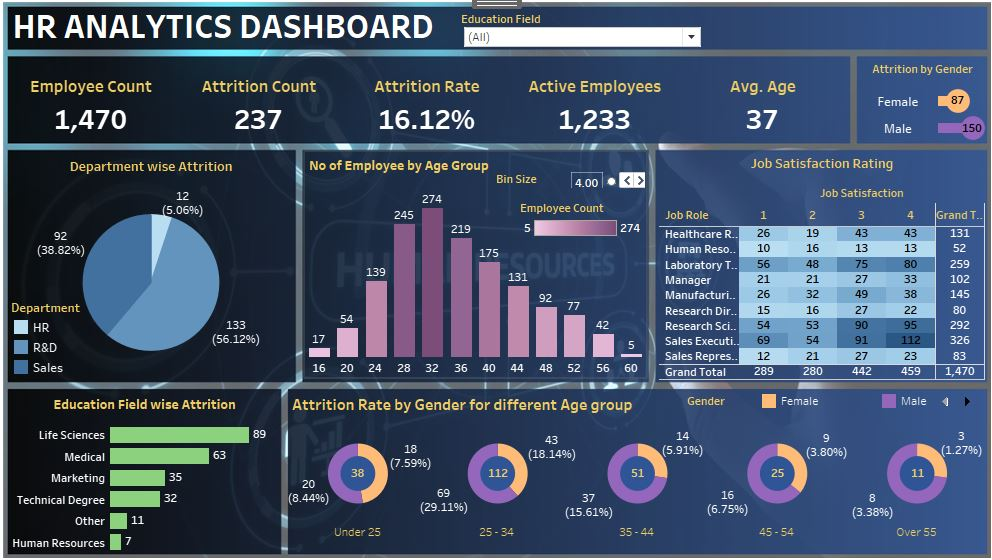

What the dashboard file says about the page in this screenshot:
{"tool":"tableau","page":{"name":"HR Analytics Dashboard","canvas":[1150,580],"ordinal":0},"visuals":[{"type":"image","param":"C:/Users/MYPC/Desktop/Prerna/Project/Tableau/HR background.png","box":[8,8,1134,564]},{"type":"text","box":[88,15,535,41]},{"type":"filter","title":"Education Field wise Attrition","param":"[federated.11tc1780mvrojr122pgkx023uk9m].[none:Education Field:nk]","box":[539,21,243,36]},{"type":"worksheet","title":"KPI","mark":"Automatic","box":[85,67,840,83]},{"type":"worksheet","title":"Attrition by Gender","mark":"Automatic","rows":["Gender"],"cols":["Calculation_702280068245577728","Calculation_702280068245577728"],"box":[936,67,129,85]},{"type":"worksheet","title":"Job Satisfaction Rating","mark":"Square","rows":["Job Role"],"cols":["Job Satisfaction"],"box":[737,160,326,230]},{"type":"worksheet","title":"No of Employee by Age Group","mark":"Automatic","rows":["Employee Count"],"cols":["Age (bin)"],"box":[383,162,341,225]},{"type":"worksheet","title":"Department wise Attrition","mark":"Pie","box":[86,163,286,226]},{"type":"parameter","param":"[Parameters].[Parameter 1]","box":[574,179,152,19]},{"type":"legend","title":"No of Employee by Age Group","param":"[federated.11tc1780mvrojr122pgkx023uk9m].[sum:Employee Count:qk]","box":[598,210,125,40]},{"type":"legend","title":"Department wise Attrition","param":"[federated.11tc1780mvrojr122pgkx023uk9m].[none:Department:nk]","box":[89,309,140,78]},{"type":"worksheet","title":"Attrition Rate by Gender for different Age group ","mark":"Pie","rows":["Calculation_702280068269912068","Calculation_702280068269912068"],"cols":["CF_age band"],"box":[366,400,699,162]},{"type":"worksheet","title":"Education Field wise Attrition","mark":"Automatic","rows":["Education Field"],"cols":["Calculation_702280068245577728"],"box":[88,401,269,162]},{"type":"legend","title":"Attrition Rate by Gender for different Age group ","param":"[federated.11tc1780mvrojr122pgkx023uk9m].[none:Gender:nk]","box":[765,401,294,21]}]}

Visuals, with their boxes on the page's 1150x580 design canvas (x1, y1, x2, y2). These are canvas units, not pixel positions in the 992x560 screenshot, which may show the page scaled, cropped or inside an application window:
image: pyautogui.locateOnScreen(8, 8, 1142, 572)
text: pyautogui.locateOnScreen(88, 15, 623, 56)
"Education Field wise Attrition" filter: pyautogui.locateOnScreen(539, 21, 782, 57)
"KPI" worksheet: pyautogui.locateOnScreen(85, 67, 925, 150)
"Attrition by Gender" worksheet: pyautogui.locateOnScreen(936, 67, 1065, 152)
"Job Satisfaction Rating" worksheet (Square marks): pyautogui.locateOnScreen(737, 160, 1063, 390)
"No of Employee by Age Group" worksheet: pyautogui.locateOnScreen(383, 162, 724, 387)
"Department wise Attrition" worksheet (Pie marks): pyautogui.locateOnScreen(86, 163, 372, 389)
parameter: pyautogui.locateOnScreen(574, 179, 726, 198)
"No of Employee by Age Group" legend: pyautogui.locateOnScreen(598, 210, 723, 250)
"Department wise Attrition" legend: pyautogui.locateOnScreen(89, 309, 229, 387)
"Attrition Rate by Gender for different Age group " worksheet (Pie marks): pyautogui.locateOnScreen(366, 400, 1065, 562)
"Education Field wise Attrition" worksheet: pyautogui.locateOnScreen(88, 401, 357, 563)
"Attrition Rate by Gender for different Age group " legend: pyautogui.locateOnScreen(765, 401, 1059, 422)
